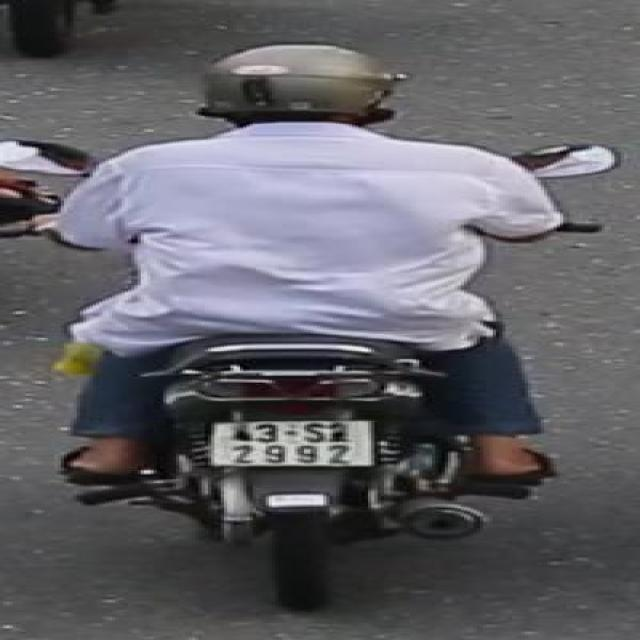LP: (203, 413, 379, 470)
helmet: (186, 38, 403, 147)
